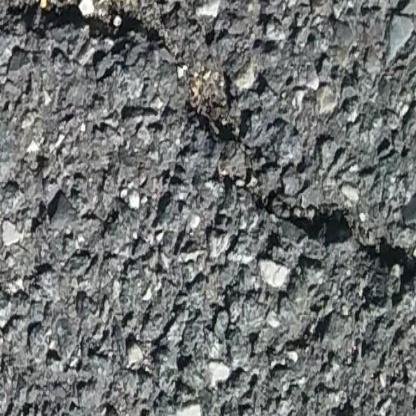Cracks: (253, 158, 416, 312), (0, 0, 182, 74)
